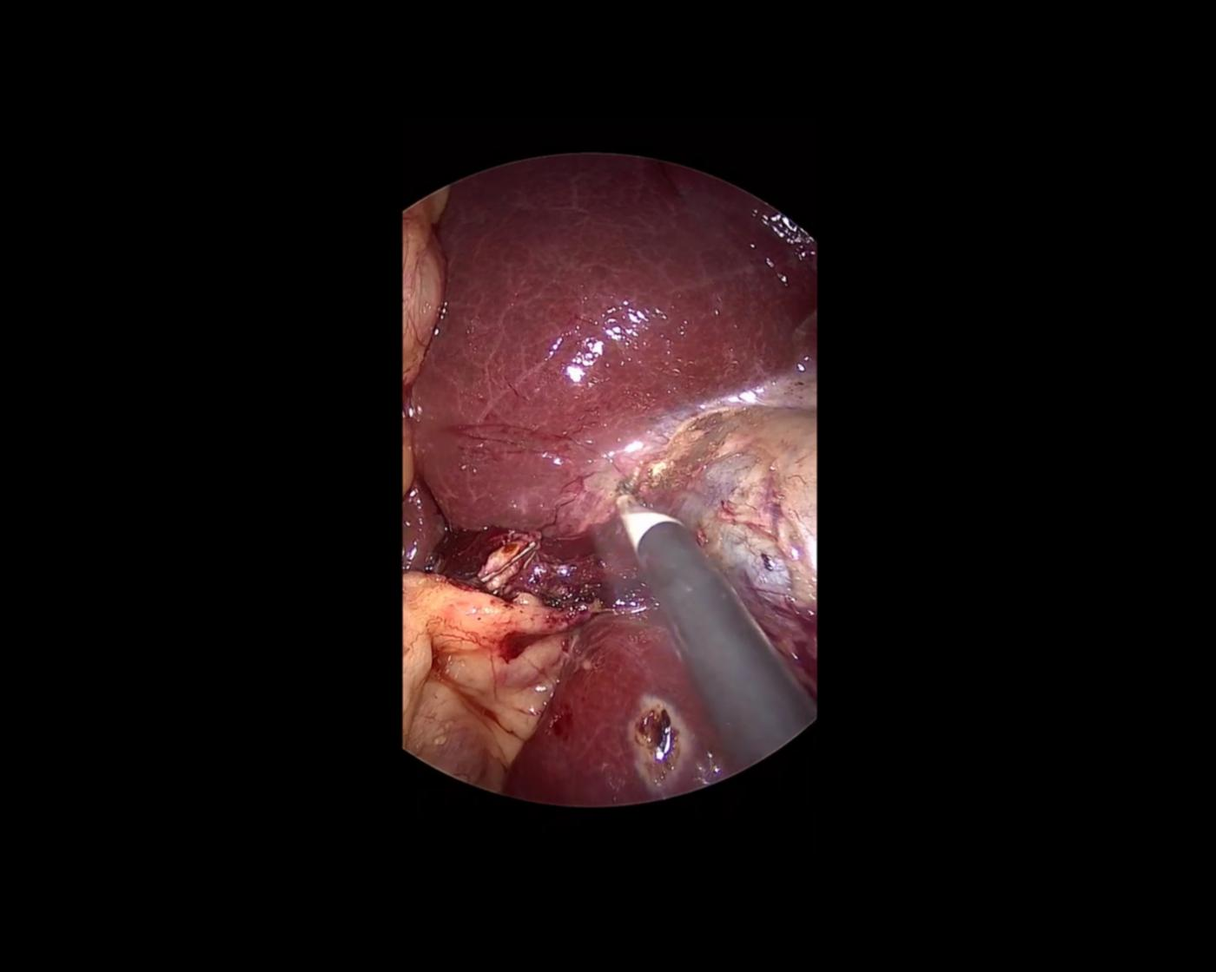Gallbladder: (635, 400, 816, 708)
Liver: (406, 149, 817, 542), (464, 598, 732, 840)
